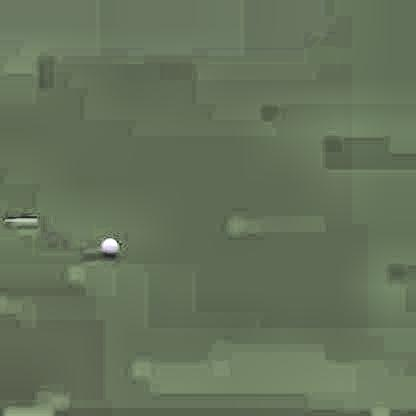golfball: (96, 235, 117, 256)
